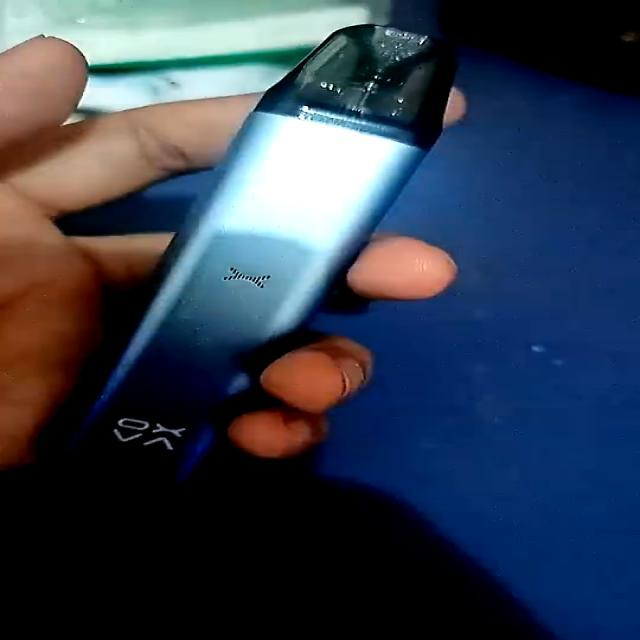Hazard: (18, 23, 456, 494)
